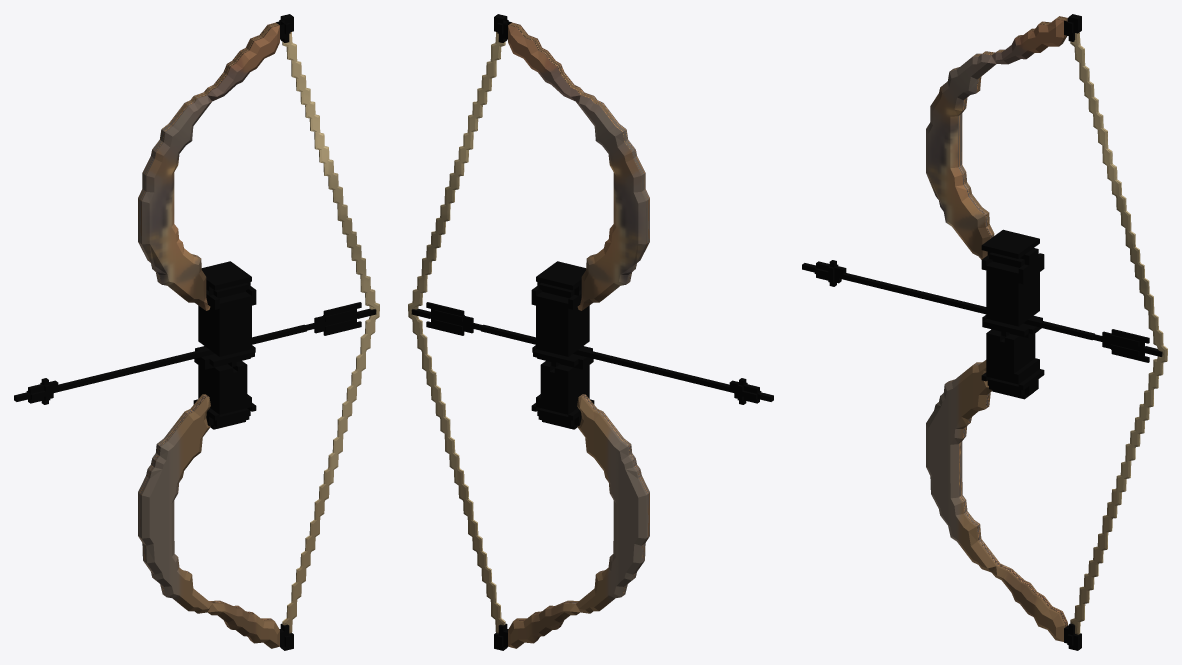
Rendered from laminated_horn_bow_pulling_2.obj.
3 views of the same model, side by side, from view 1: azimuth 30°, elevation 25°; view 2: azimuth 150°, elevation 25°; view 3: azimuth 330°, elevation 25° (orthographic).
Visible parts, largest first — view 1: laminated_horn_bow_pulling_2; view 2: laminated_horn_bow_pulling_2; view 3: laminated_horn_bow_pulling_2.
Part boxes in pixels (x1,y1,x2,y2): laminated_horn_bow_pulling_2: (14,14,379,650); laminated_horn_bow_pulling_2: (408,14,773,650); laminated_horn_bow_pulling_2: (802,14,1167,650).
Size of the model in its own units: 0.8229 by 1.36 by 0.0833.
